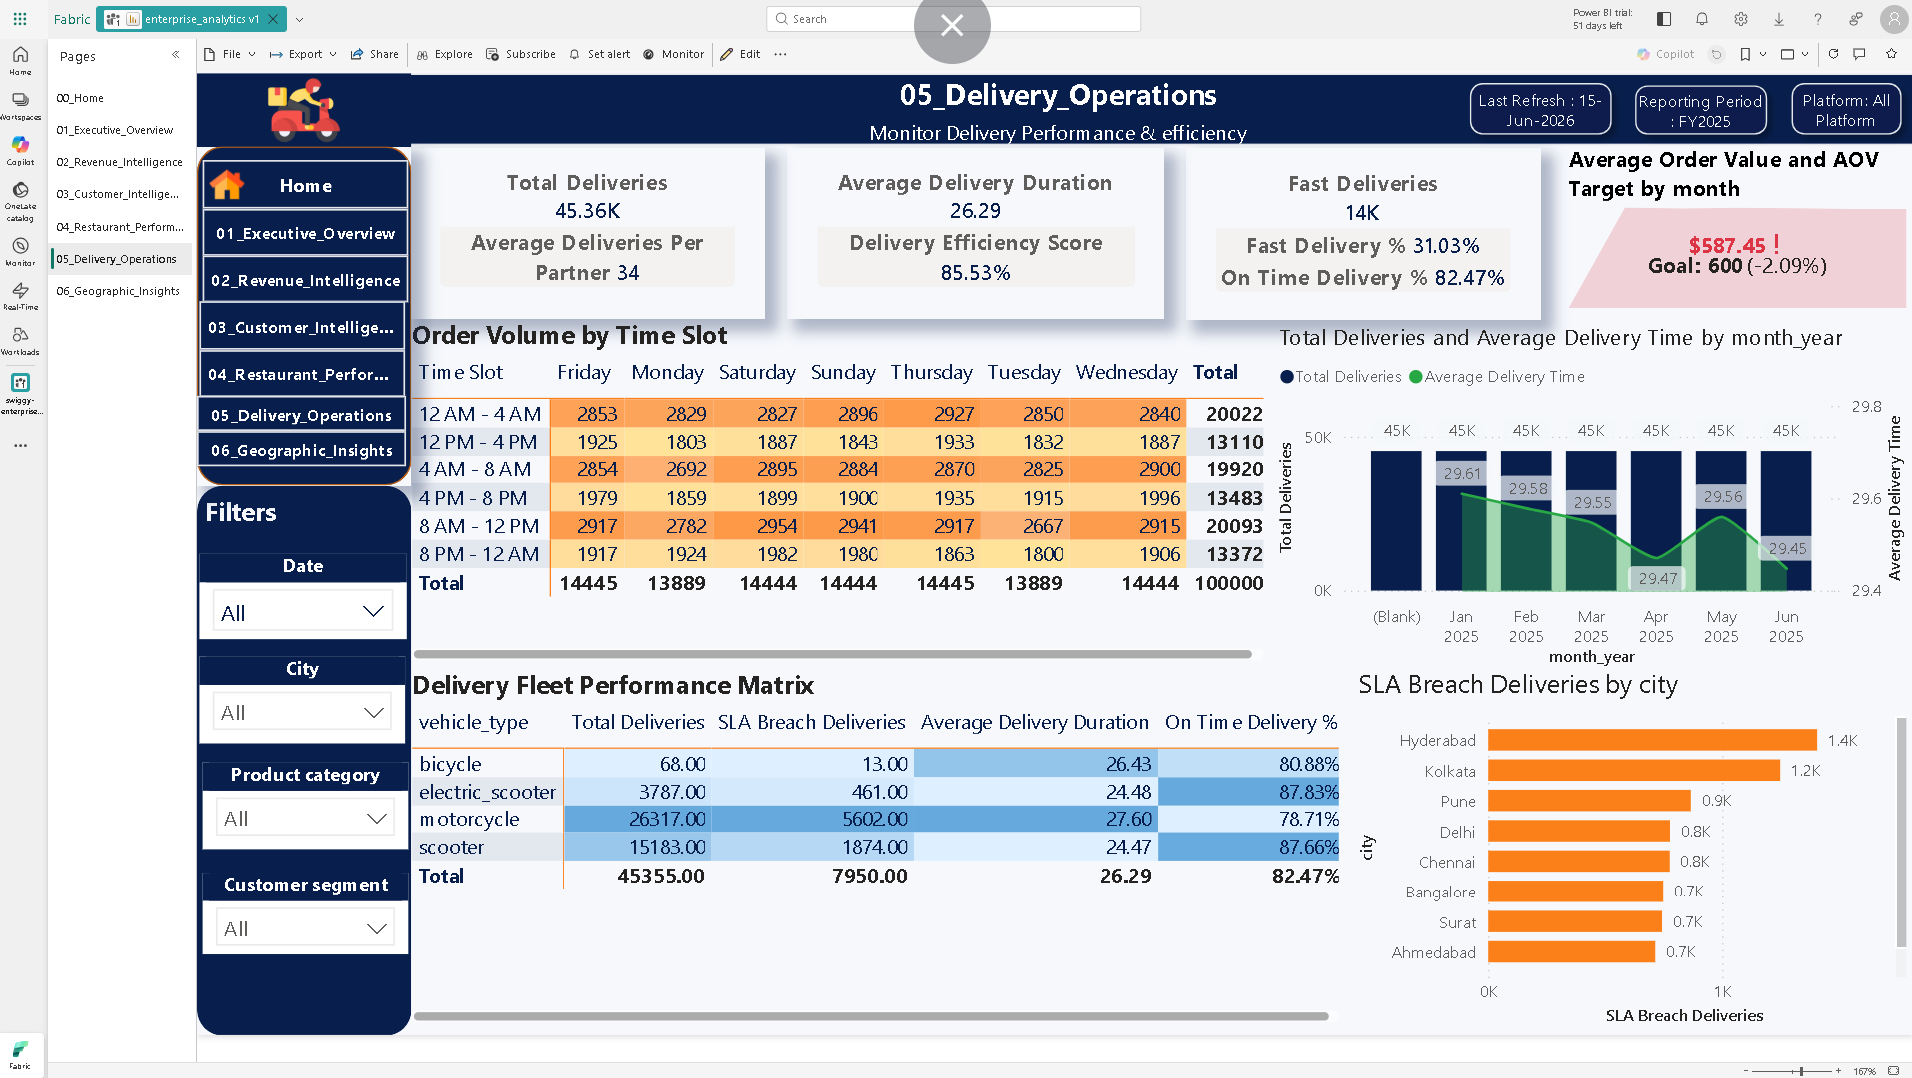

What the dashboard file says about the page in this screenshot:
{"tool":"powerbi","page":{"name":"05_Delivery_Operations","canvas":[1280,720],"ordinal":5},"visuals":[{"type":"shape","title":"05_Delivery_Operations","box":[1.3,2,1278.7,54.1],"z":0},{"type":"shape","box":[939.7,0,123.6,56.3],"z":1000},{"type":"shape","box":[1063.3,1.8,116.3,54.5],"z":2000},{"type":"shape","box":[1179.6,0,100,56.3],"z":3000},{"type":"cardVisual","fields":{"Data":["fact_deliveries.Total Deliveries"]},"box":[159,57.6,264.9,126.7],"z":4000},{"type":"kpi","fields":{"TrendLine":["dim_date.month"],"Indicator":["Measure_Table.Average Order Value"],"Goal":["Measure_Table.AOV Target"]},"box":[1017.8,54.5,261.7,127.2],"z":5000},{"type":"image","box":[0,1.8,159.9,54.5],"z":6000},{"type":"shape","title":"Filters","box":[0,309,159.9,410.8],"z":7000},{"type":"cardVisual","fields":{"Data":["fact_deliveries.Average Delivery Duration"]},"box":[440,57.6,281,126.7],"z":8000},{"type":"cardVisual","fields":{"Data":["fact_deliveries.Fast Deliveries"]},"box":[737.2,57.6,264.9,129],"z":9000},{"type":"lineStackedColumnComboChart","fields":{"Y":["fact_deliveries.Total Deliveries"],"Y2":["Measure_Table.Average Delivery Time"],"Category":["dim_date.month_year"]},"box":[801.5,187.2,478,261.7],"z":10000},{"type":"pivotTable","title":"Order Volume by Time Slot","fields":{"Rows":["fact_orders.Time Slot"],"Columns":["dim_date.weekday_name"],"Values":["Measure_Table.Total Orders"]},"box":[155.5,183.8,644.4,260.6],"z":11000},{"type":"barChart","fields":{"Category":["dim_location.city"],"Y":["fact_deliveries.SLA Breach Deliveries"]},"box":[861.5,443.5,418,272.6],"z":12000},{"type":"pivotTable","title":"Delivery Fleet Performance Matrix","fields":{"Values":["fact_deliveries.Total Deliveries","fact_deliveries.SLA Breach Deliveries","fact_deliveries.Average Delivery Duration","fact_deliveries.On Time Delivery %"],"Rows":["fact_deliveries.vehicle_type"]},"box":[155.5,444.4,701,270.7],"z":13000},{"type":"shape","box":[0,56.3,159.9,252.6],"z":14000},{"type":"actionButton","title":"Home","box":[4,66.6,153.5,36.4],"z":15000},{"type":"actionButton","title":"01_Executive_Overview","box":[4,103,153.5,34.3],"z":16000},{"type":"actionButton","title":"02_Revenue_Intelligence","box":[4,137.3,153.5,34.3],"z":17000},{"type":"actionButton","title":"03_Customer_Intelligence","box":[2,171.7,153.5,36.4],"z":18000},{"type":"actionButton","title":"04_Restaurant_Performance","box":[2,208,153.5,34.3],"z":19000},{"type":"actionButton","title":"05_Delivery_Operations","box":[0,242.4,155.5,26.3],"z":20000},{"type":"actionButton","title":"05_Delivery_Operations","box":[0,268.6,155.5,26.3],"z":21000},{"type":"slicer","title":"Date","fields":{"Values":["dim_date.month_year","dim_date.weekday_name"]},"box":[1.8,359.9,154.5,63.6],"z":22000},{"type":"slicer","title":"City","fields":{"Values":["dim_restaurants.city"]},"box":[2,436.3,153.5,64.6],"z":23000},{"type":"slicer","title":"Product category","fields":{"Values":["fact_orders.product_category"]},"box":[4,515.1,153.5,64.6],"z":24000},{"type":"slicer","title":"Customer segment","fields":{"Values":["dim_customers.customer_segment"]},"box":[4,597.9,153.5,60.6],"z":25000}]}

Visuals, with their boxes on the page's 1280x720 design canvas (x1, y1, x2, y2). These are canvas units, not pixel positions in the 1912x1078 screenshot, which may show the page scaled, cropped or inside an application window:
"05_Delivery_Operations" shape: 1,2,1280,56
shape: 940,0,1063,56
shape: 1063,2,1180,56
shape: 1180,0,1280,56
cardVisual - fact_deliveries.Total Deliveries: 159,58,424,184
kpi - dim_date.month x Measure_Table.Average Order Value: 1018,54,1280,182
image: 0,2,160,56
"Filters" shape: 0,309,160,720
cardVisual - fact_deliveries.Average Delivery Duration: 440,58,721,184
cardVisual - fact_deliveries.Fast Deliveries: 737,58,1002,187
lineStackedColumnComboChart - fact_deliveries.Total Deliveries x Measure_Table.Average Delivery Time: 802,187,1280,449
"Order Volume by Time Slot" pivotTable: 156,184,800,444
barChart - dim_location.city x fact_deliveries.SLA Breach Deliveries: 862,444,1280,716
"Delivery Fleet Performance Matrix" pivotTable: 156,444,856,715
shape: 0,56,160,309
"Home" actionButton: 4,67,158,103
"01_Executive_Overview" actionButton: 4,103,158,137
"02_Revenue_Intelligence" actionButton: 4,137,158,172
"03_Customer_Intelligence" actionButton: 2,172,156,208
"04_Restaurant_Performance" actionButton: 2,208,156,242
"05_Delivery_Operations" actionButton: 0,242,156,269
"05_Delivery_Operations" actionButton: 0,269,156,295
"Date" slicer: 2,360,156,424
"City" slicer: 2,436,156,501
"Product category" slicer: 4,515,158,580
"Customer segment" slicer: 4,598,158,658
